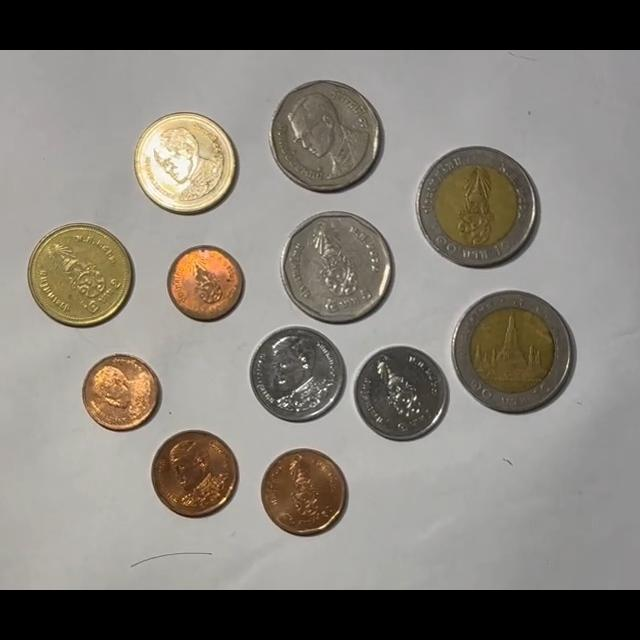1-baht: (249, 326, 345, 422), (353, 345, 449, 441)
10-baht: (453, 290, 576, 414), (416, 146, 538, 267)
2-baht: (28, 223, 133, 328), (133, 112, 238, 216)
25-satang: (82, 353, 160, 431), (168, 245, 244, 321)
5-baht: (270, 79, 384, 193), (280, 211, 393, 323)
50-satang: (260, 449, 347, 536), (151, 431, 239, 517)
